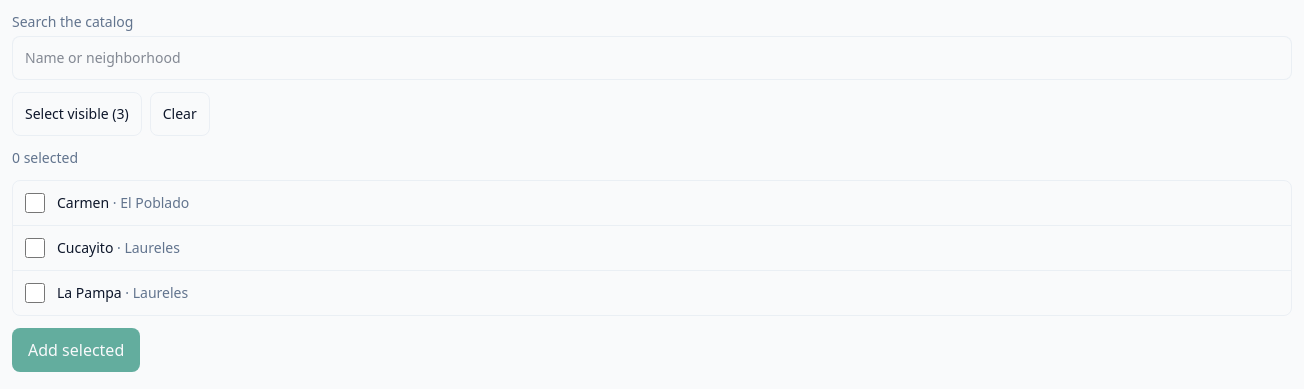
Test: RestaurantPicker › selects only the visible restaurants while filtered
Type "laureles" into the search field with test id "contest-picker-search".
click(652, 58); type("laureles")  # box [12, 36, 1292, 80]
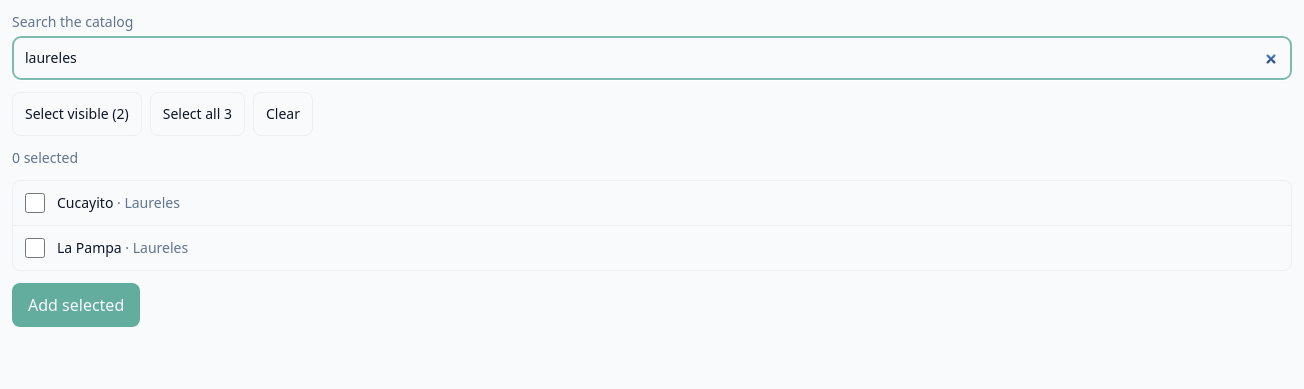
Click the button with test id "contest-picker-select-visible".
click(77, 114)  # box [12, 92, 142, 136]
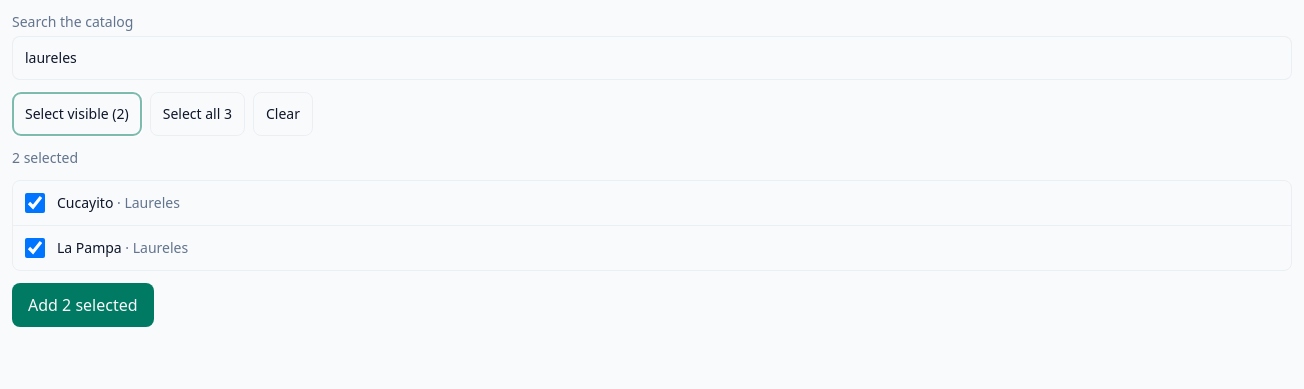
Check: the message with test id "contest-picker-count" reads "2 selected", box [12, 148, 78, 167]
Click the button with test id "contest-picker-clear".
click(283, 114)  # box [253, 92, 313, 136]
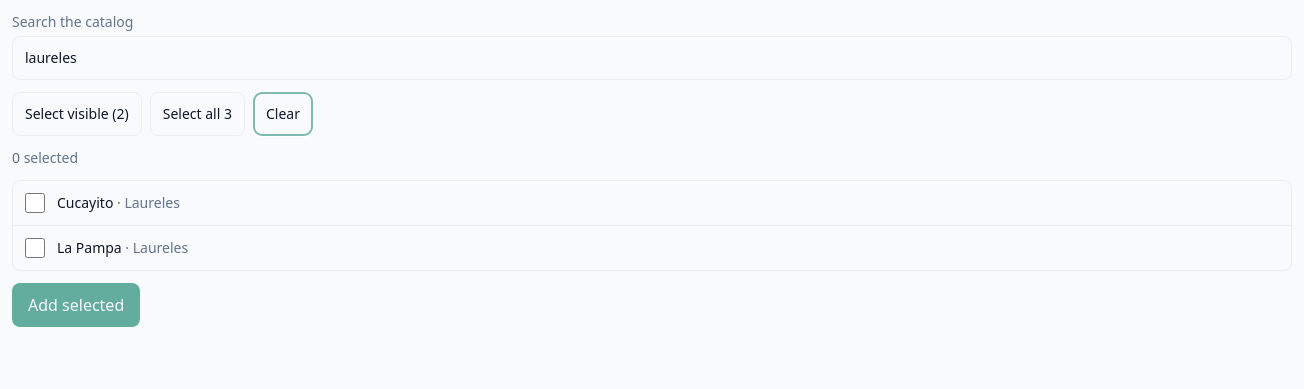
Check: the message with test id "contest-picker-count" reads "0 selected", box [12, 148, 78, 167]
